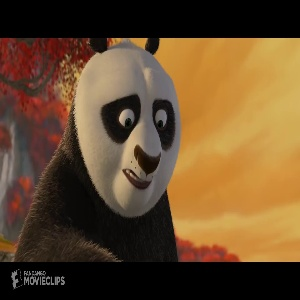po: (17, 39, 182, 261)
